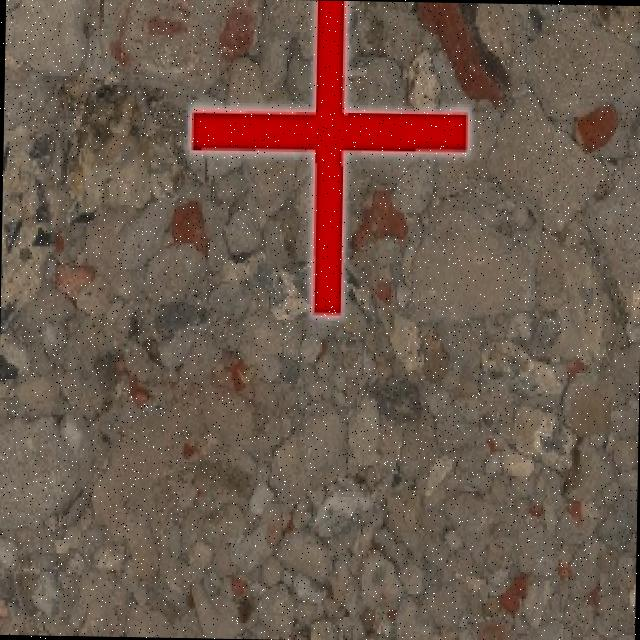x_marker: (187, 0, 468, 317)
